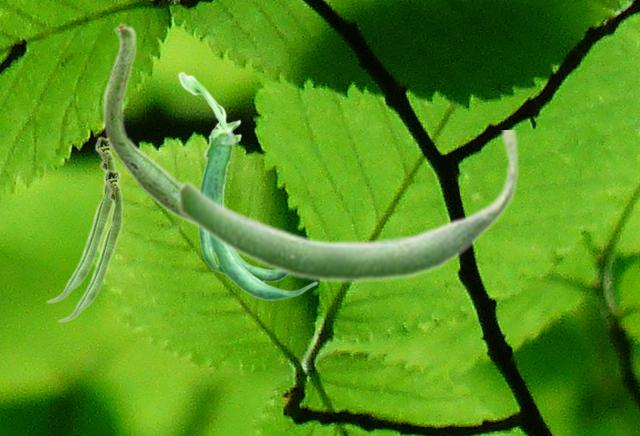french_bean: (176, 130, 519, 284), (177, 71, 317, 300), (102, 21, 186, 222), (45, 135, 115, 303), (57, 168, 122, 322)
